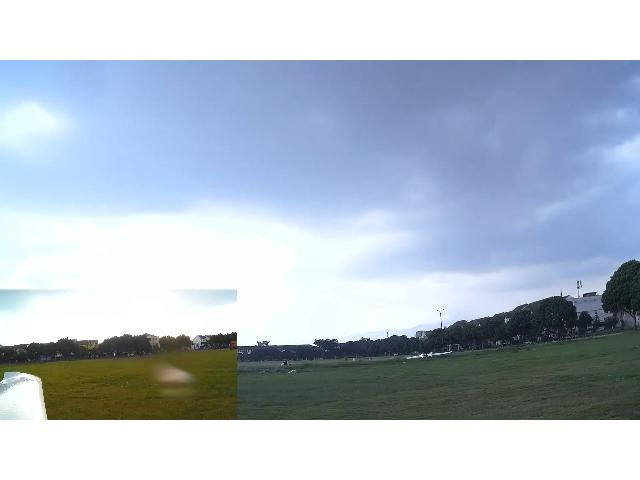Anti-Drone: (385, 341, 469, 364)
